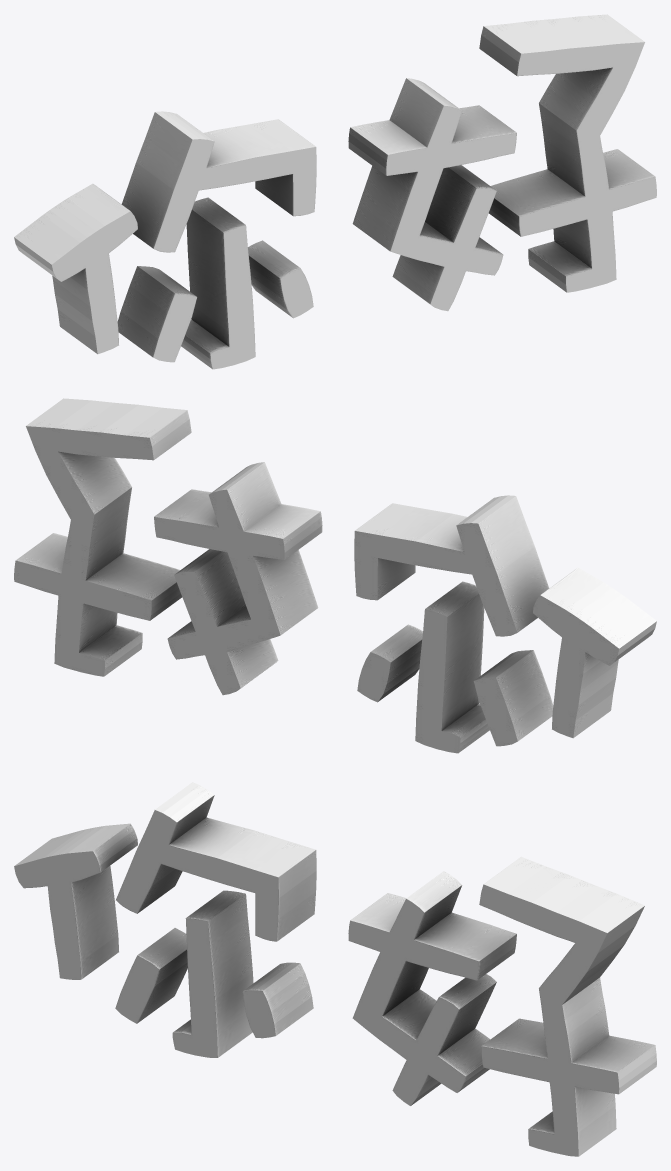
File: hello [chs].DAE
The picture shows the model from 3 angles, top to bottom: view 1: azimuth 30°, elevation 25°; view 2: azimuth 150°, elevation 25°; view 3: azimuth 330°, elevation 25°; orthographic projection.
Visible parts, largest first — view 1: objpolymsh2; view 2: objpolymsh2; view 3: objpolymsh2.
Boxes of the visible parts, x1,y1,x2,y2 form: objpolymsh2: (14, 14, 656, 369); objpolymsh2: (14, 398, 656, 753); objpolymsh2: (14, 782, 656, 1156).
Bounding box in the file's own units: 8.73 × 0.944 × 3.47.
